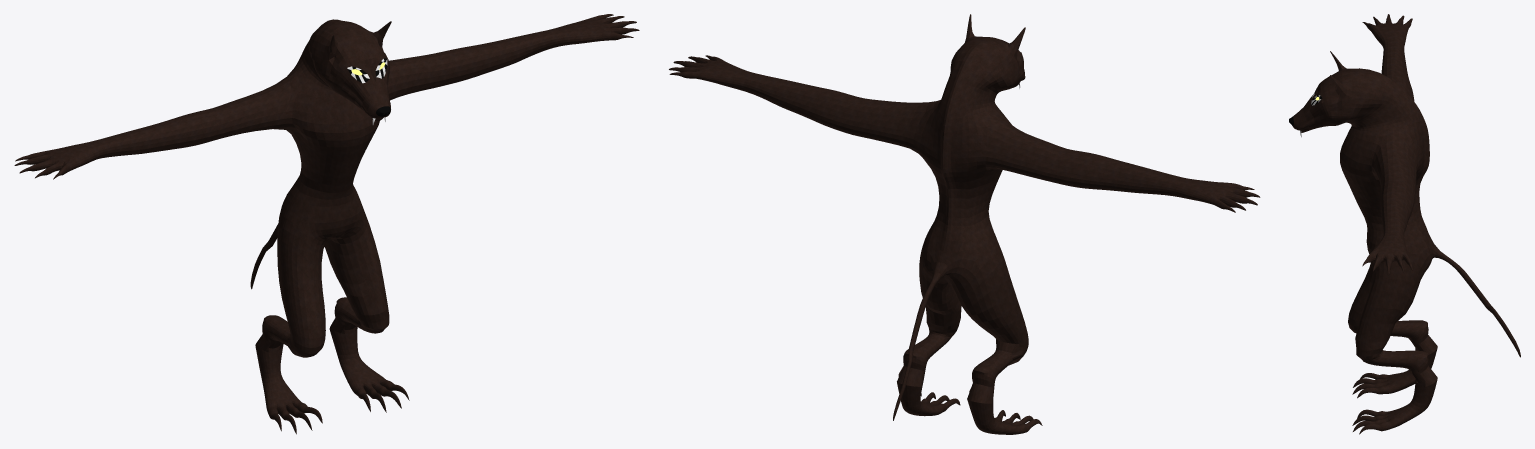
File: werewolf.fbx
The picture shows the model from 3 angles, left to right: view 1: azimuth 30°, elevation 25°; view 2: azimuth 150°, elevation 25°; view 3: azimuth 270°, elevation 25°; orthographic projection. The views are drawn at different scales.
Parts seen in each view (by area): view 1: werewolf; view 2: werewolf; view 3: werewolf.
Part boxes in pixels (x1,y1,x2,y2): werewolf: [14, 14, 639, 434]; werewolf: [669, 14, 1260, 434]; werewolf: [1289, 14, 1520, 434].
Size of the model in its own units: 686 by 428 by 259.
